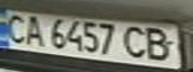4: (63, 18, 84, 53)
5: (81, 19, 100, 54)
6: (45, 17, 69, 51)
7: (96, 20, 121, 56)
A: (21, 12, 48, 47)
B: (139, 25, 178, 63)
C: (121, 24, 151, 60), (0, 11, 30, 44)
